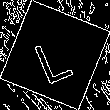L_NW: (31, 26, 79, 84)
